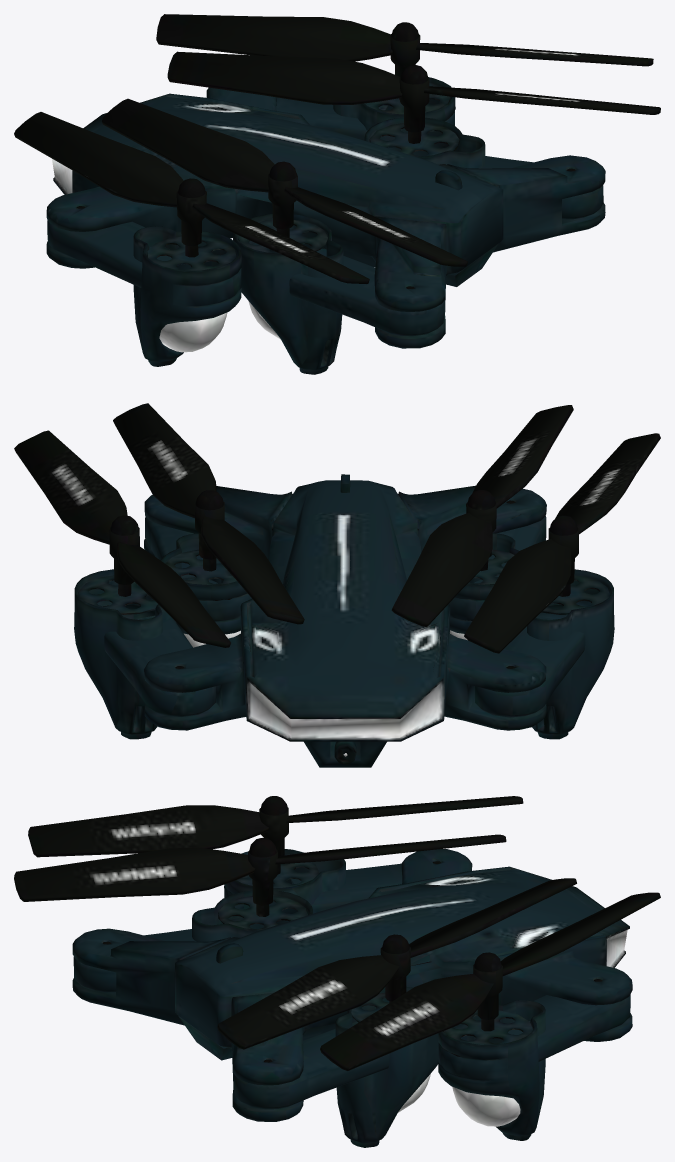
File: item.drone.scan_light.glb
3 renders of one model, top to bottom at view 1: azimuth 30°, elevation 25°; view 2: azimuth 150°, elevation 25°; view 3: azimuth 270°, elevation 25°, orthographic. The views are drawn at different scales.
Visible parts, largest first — view 1: 4 L_011; view 2: 4 L_011; view 3: 4 L_011.
Boxes of the visible parts, box(x1,y1,x2,y2) form: 4 L_011: box(14, 14, 660, 374); 4 L_011: box(14, 403, 660, 767); 4 L_011: box(14, 796, 660, 1147).
Bounding box in the file's own units: 0.934 × 0.3099 × 0.9389.
Materials: 1 (1 with a texture image).
